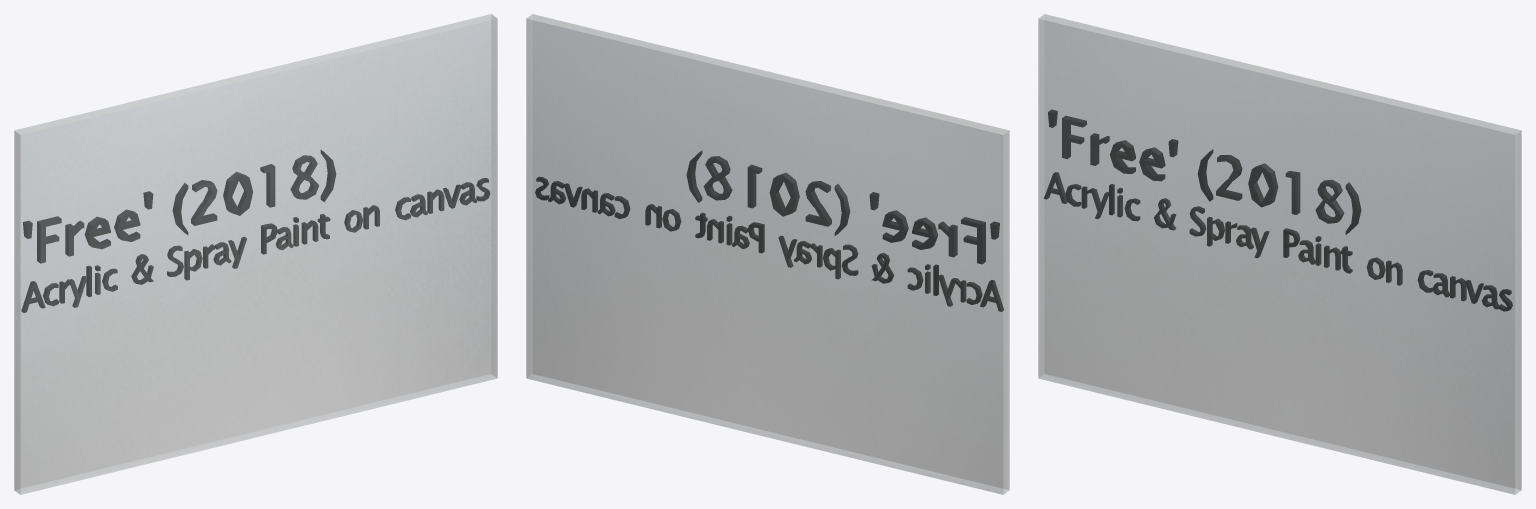
Rendered from Freeglassedisplayed.fbx.
3 views of the same model, side by side, from view 1: azimuth 30°, elevation 25°; view 2: azimuth 150°, elevation 25°; view 3: azimuth 330°, elevation 25° (orthographic).
Visible parts, largest first — view 1: pCube2, typeMesh1, typeMesh; view 2: pCube2, typeMesh1, typeMesh; view 3: pCube2, typeMesh1, typeMesh.
Boxes of the visible parts, x1,y1,x2,y2 form: pCube2: (14,14,497,494); typeMesh1: (21,178,490,312); typeMesh: (23,150,336,263); pCube2: (526,14,1009,494); typeMesh1: (535,176,1003,311); typeMesh: (686,151,999,264); pCube2: (1038,14,1521,494); typeMesh1: (1044,172,1512,311); typeMesh: (1048,109,1361,234).
Bounding box in the file's own units: 8.22 × 5.93 × 0.1877.
